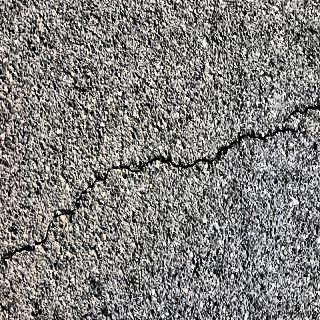crack: (1, 87, 320, 269)
